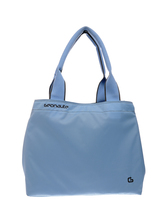bag: (20, 24, 149, 196)
